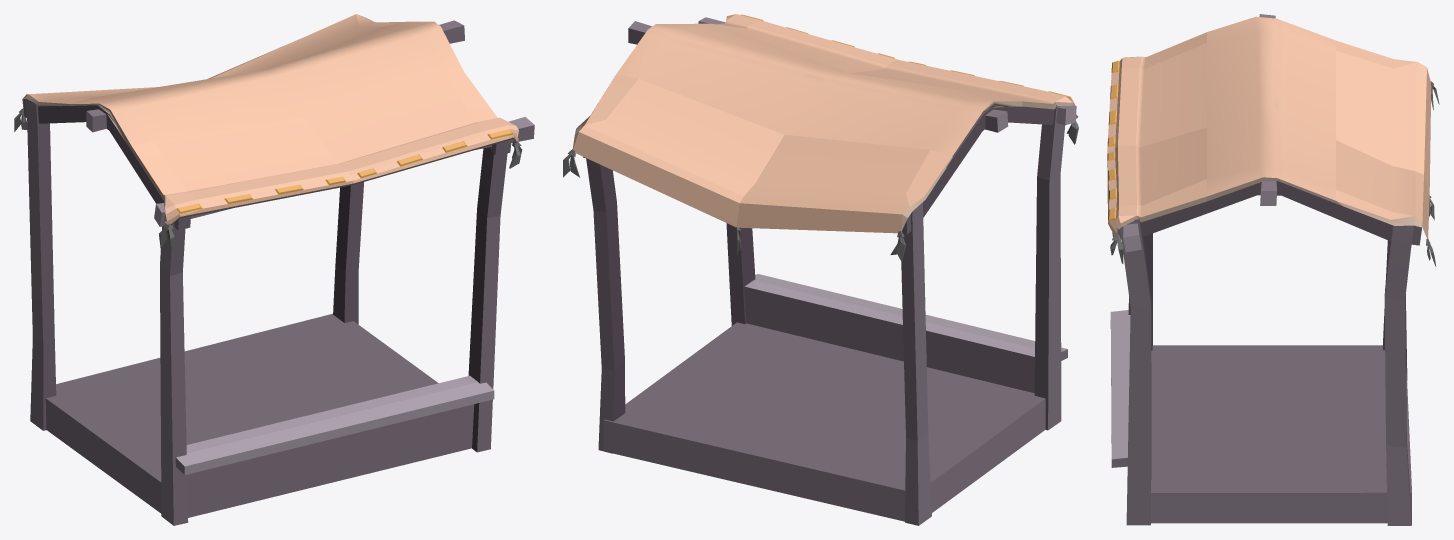
File: Stall_Yellow.fbx
3 renders of one model, left to right at view 1: azimuth 30°, elevation 25°; view 2: azimuth 150°, elevation 25°; view 3: azimuth 270°, elevation 25°, orthographic. The views are drawn at different scales.
Visible parts, largest first — view 1: MarketStall_Yellow; view 2: MarketStall_Yellow; view 3: MarketStall_Yellow.
Part boxes in pixels (<box>): MarketStall_Yellow: <box>14,14,534,525</box>; MarketStall_Yellow: <box>563,14,1078,525</box>; MarketStall_Yellow: <box>1107,14,1439,525</box>.
Size of the model in its own units: 3.21 by 3.02 by 2.53.
Materials: 1 (1 with a texture image).
